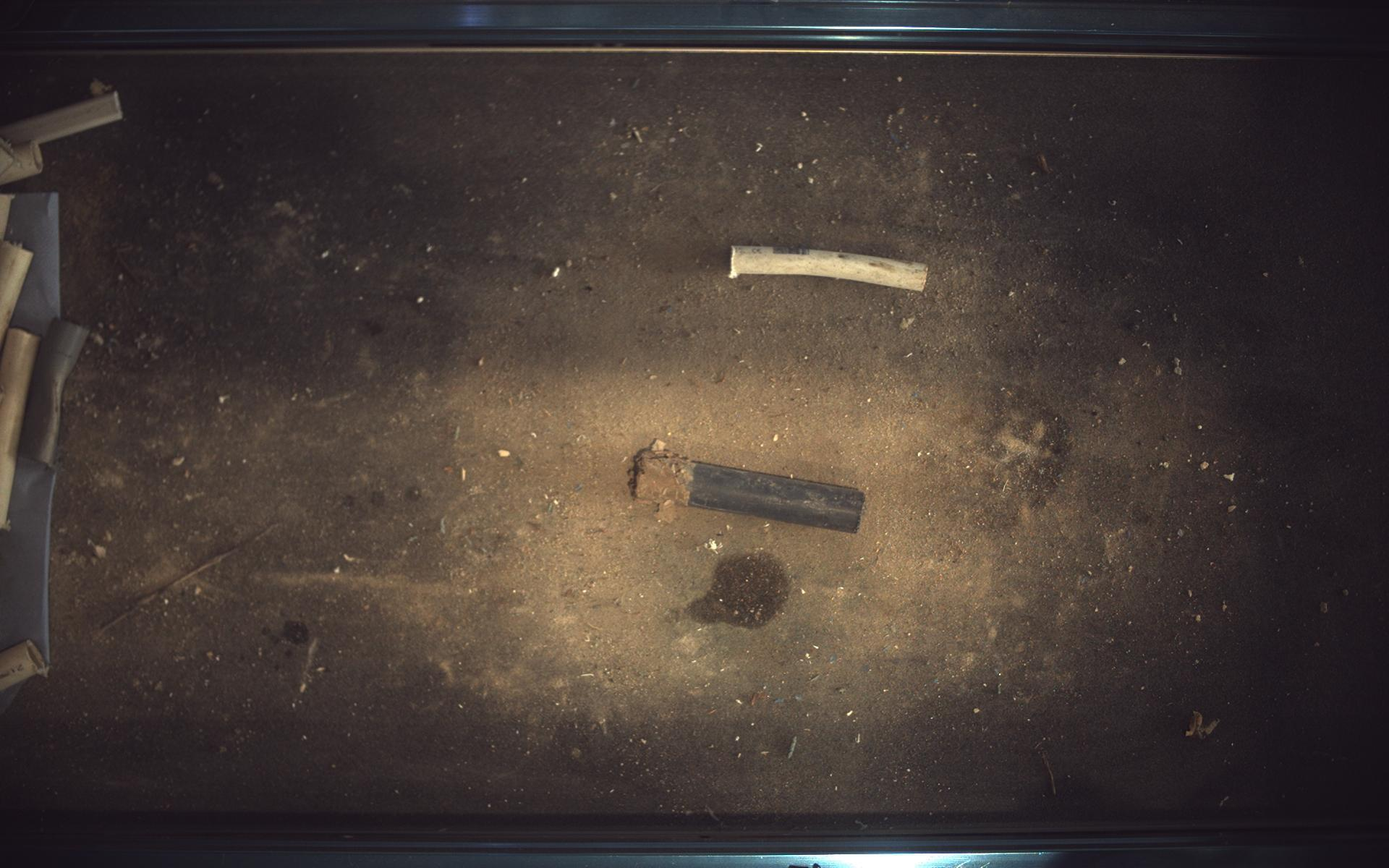pipes: (632, 440, 866, 533), (731, 244, 929, 291)
